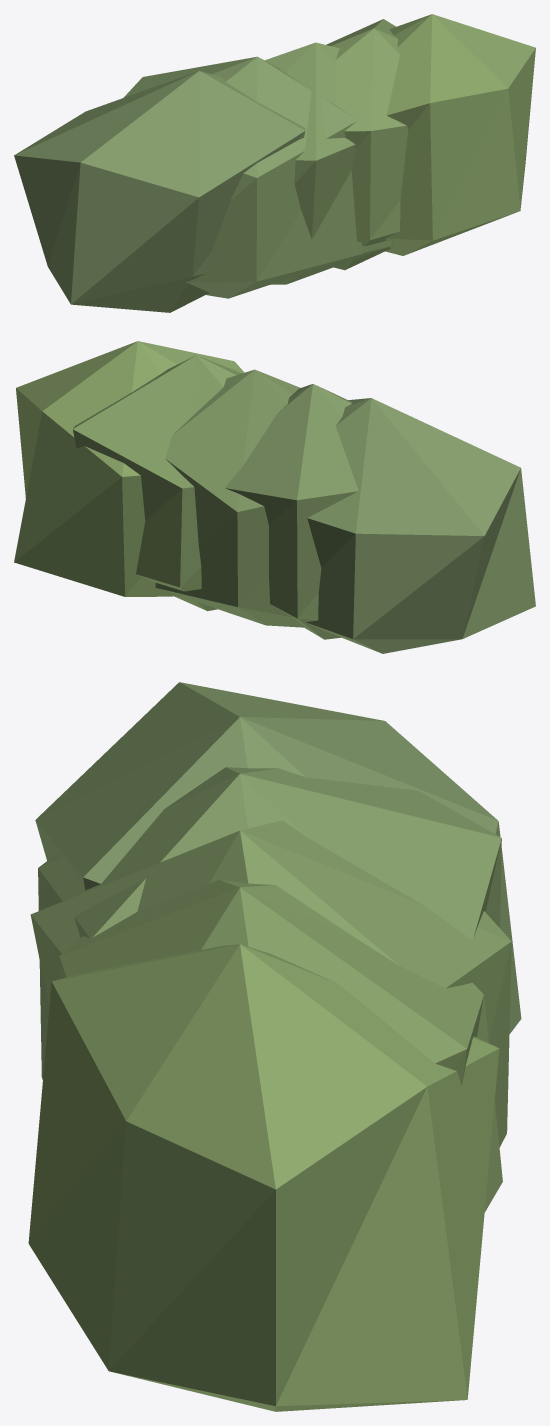
3 views of the same model, one above another, from view 1: azimuth 30°, elevation 25°; view 2: azimuth 150°, elevation 25°; view 3: azimuth 270°, elevation 25° (orthographic). The views are drawn at different scales.
Size of the model in its own units: 3.19 by 1.5 by 1.37.
